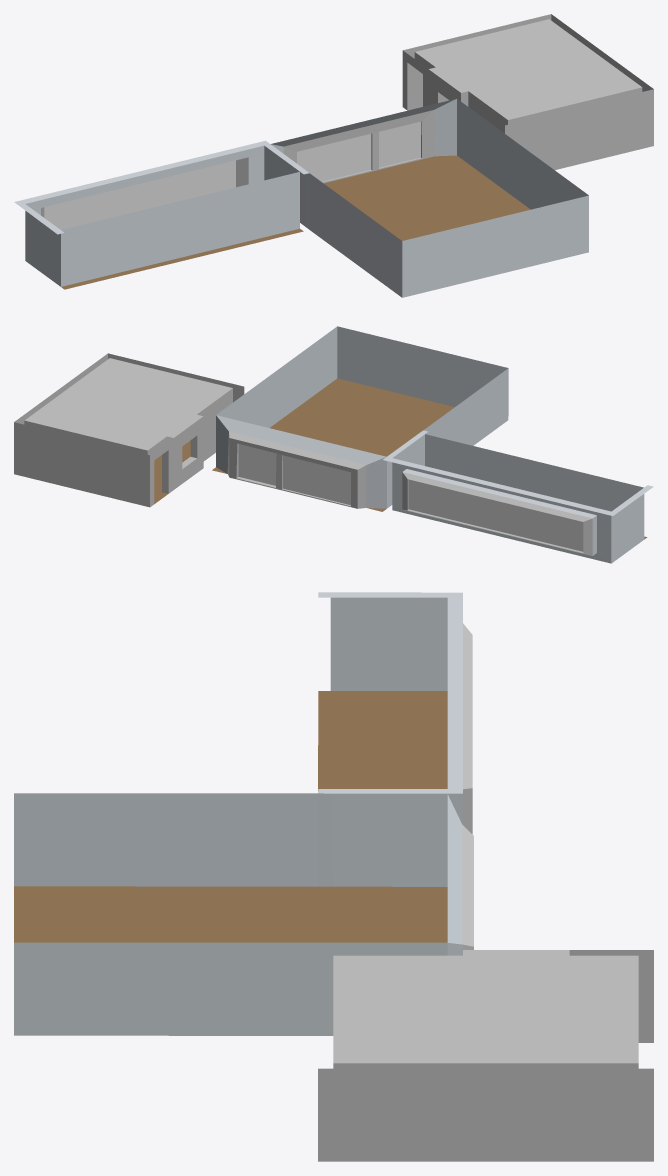
Rendered from HouseWalls and Floors V0.96.fbx.
3 renders of one model, top to bottom at view 1: azimuth 30°, elevation 25°; view 2: azimuth 150°, elevation 25°; view 3: azimuth 270°, elevation 25°, orthographic. The views are drawn at different scales.
Parts seen in each view (by area): view 1: House.002, House.005, House.007, House.010, House.003; view 2: House.002, House.005, House.007, House.003, House.010, House.006; view 3: House.005, House.002, House.010, House.007.
Part boxes in pixels (x1,y1,x2,y2): House.002: [41, 14, 653, 217]; House.005: [270, 98, 588, 297]; House.007: [14, 140, 309, 286]; House.010: [61, 155, 530, 289]; House.003: [44, 121, 421, 229]; House.002: [14, 353, 592, 555]; House.005: [216, 326, 508, 508]; House.007: [383, 430, 653, 563]; House.003: [238, 444, 583, 551]; House.010: [212, 378, 647, 539]; House.006: [154, 440, 190, 503]; House.005: [14, 793, 462, 1035]; House.002: [318, 623, 653, 1161]; House.010: [14, 691, 447, 942]; House.007: [318, 592, 462, 824].
Bounding box in the file's own units: 3546 × 324 × 2013.
